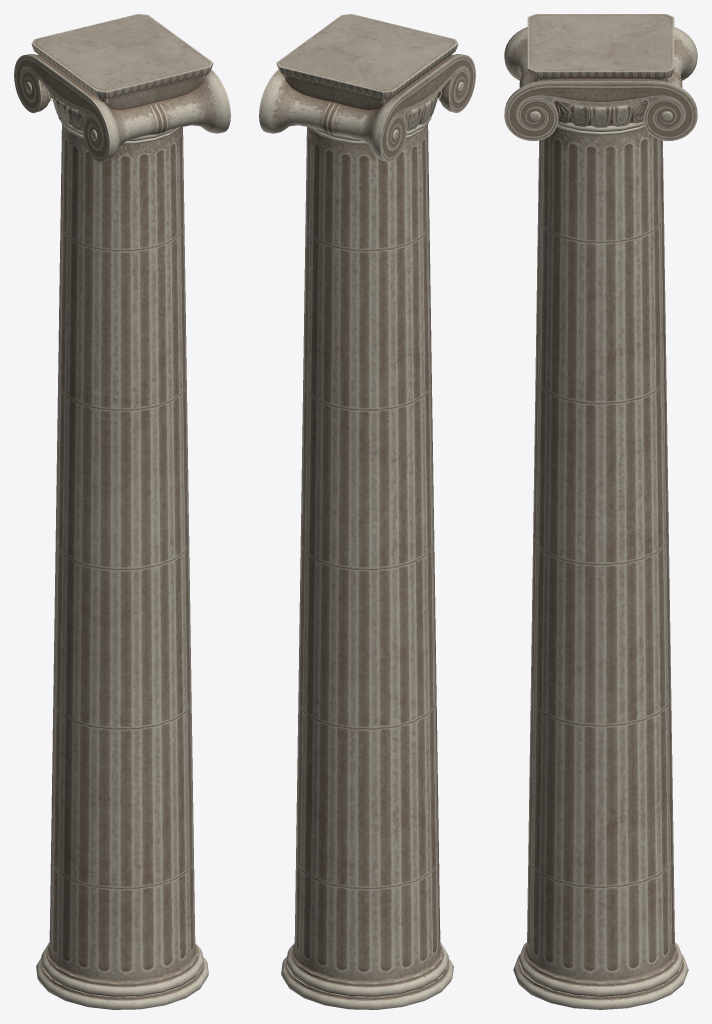
File: ionic_column.glb
3 views of the same model, side by side, from view 1: azimuth 30°, elevation 25°; view 2: azimuth 150°, elevation 25°; view 3: azimuth 270°, elevation 25° (orthographic).
Parts seen in each view (by area): view 1: sloup1_lp, sloup5_lp, sloup4_lp, sloup3_lp; view 2: sloup1_lp, sloup5_lp, sloup4_lp, sloup3_lp; view 3: sloup1_lp, sloup4_lp, sloup5_lp, sloup3_lp.
Boxes of the visible parts, x1,y1,x2,y2 form: sloup1_lp: [36, 122, 208, 1009]; sloup5_lp: [31, 14, 213, 110]; sloup4_lp: [14, 54, 230, 162]; sloup3_lp: [51, 93, 84, 131]; sloup1_lp: [281, 122, 453, 1009]; sloup5_lp: [276, 14, 458, 110]; sloup4_lp: [259, 54, 475, 162]; sloup3_lp: [405, 93, 438, 131]; sloup1_lp: [513, 125, 688, 1009]; sloup4_lp: [504, 27, 697, 140]; sloup5_lp: [527, 14, 674, 81]; sloup3_lp: [554, 101, 647, 127].
Bounding box in the file's own units: 9.55 × 55.86 × 10.53.
1 material, 1 textured.
